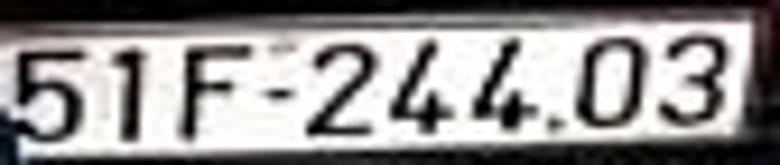-: (263, 86, 292, 102)
.: (546, 119, 565, 131)
0: (576, 39, 643, 129)
1: (119, 42, 143, 140)
2: (309, 44, 371, 137)
3: (661, 37, 723, 126)
4: (470, 38, 539, 131), (389, 39, 452, 132)
5: (11, 47, 85, 141)
F: (180, 44, 250, 136)
